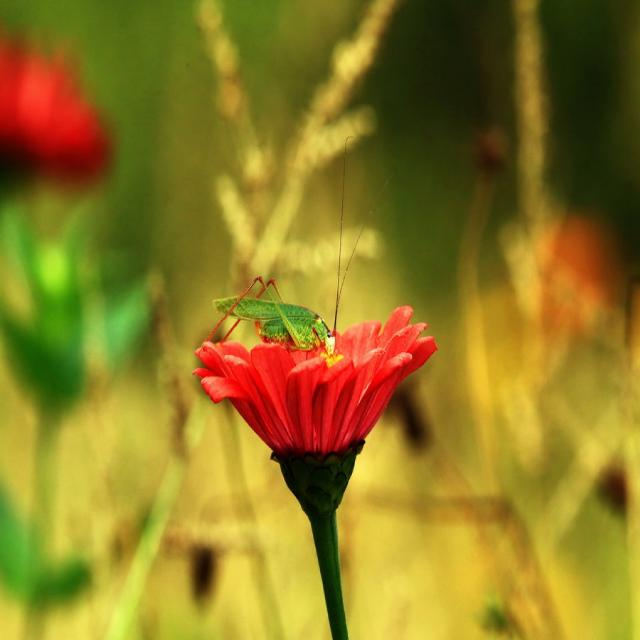ZhaMeng: (195, 265, 338, 361)
